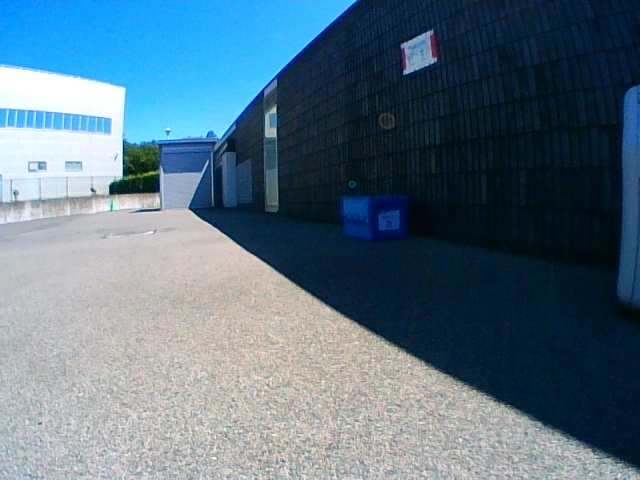blue_box: (343, 196, 407, 239)
tag: (380, 212, 398, 229)
